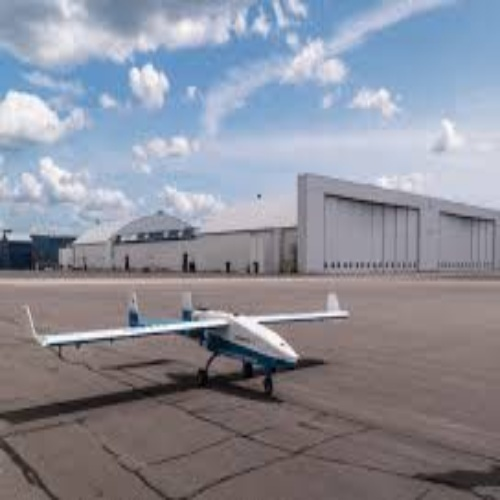uav: (20, 285, 351, 402)
